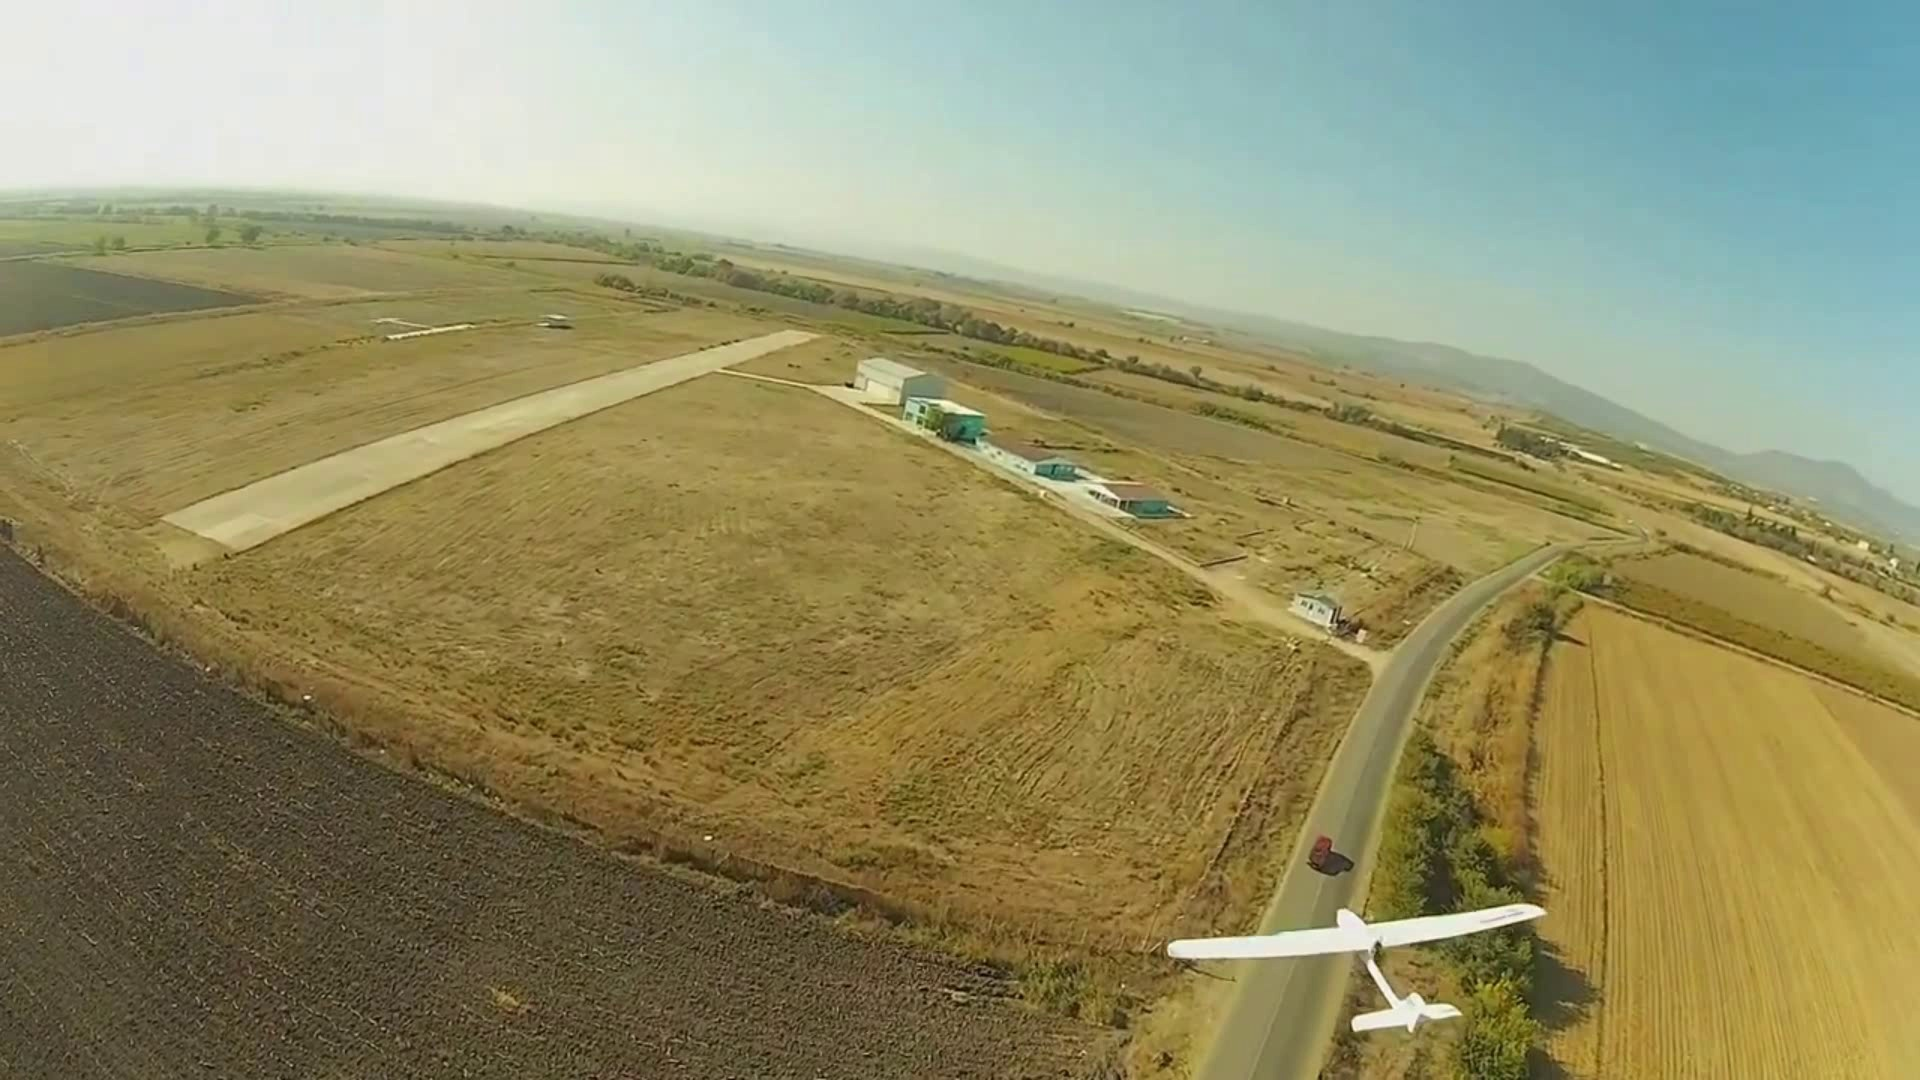airplane: (1161, 536, 1918, 1079)
